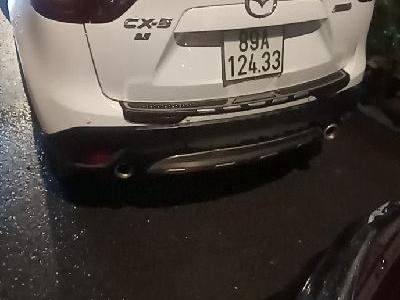number: (221, 23, 285, 85)
